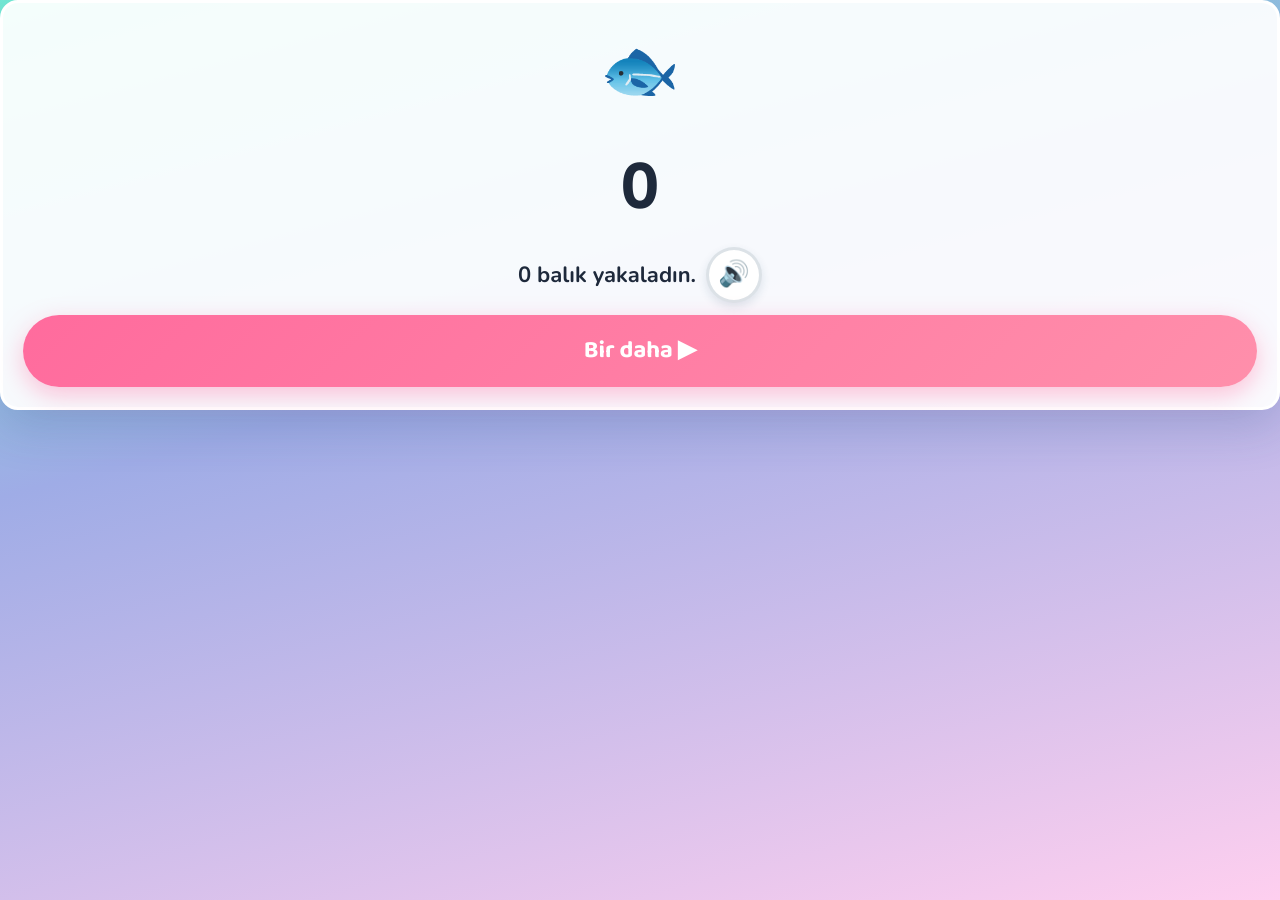
Scenario: DurGit bileşeni › başlar, 45 sn sonra sonuç ekranını gösterir ve yerinde yeniden başlar
Later steps or results of the test are not shown.
What coordinates should you click on to do the following:
click the button "Bir daha ▶"
I would click on:
 (640, 351)
Its box is x1=23 y1=315 x2=1257 y2=387.
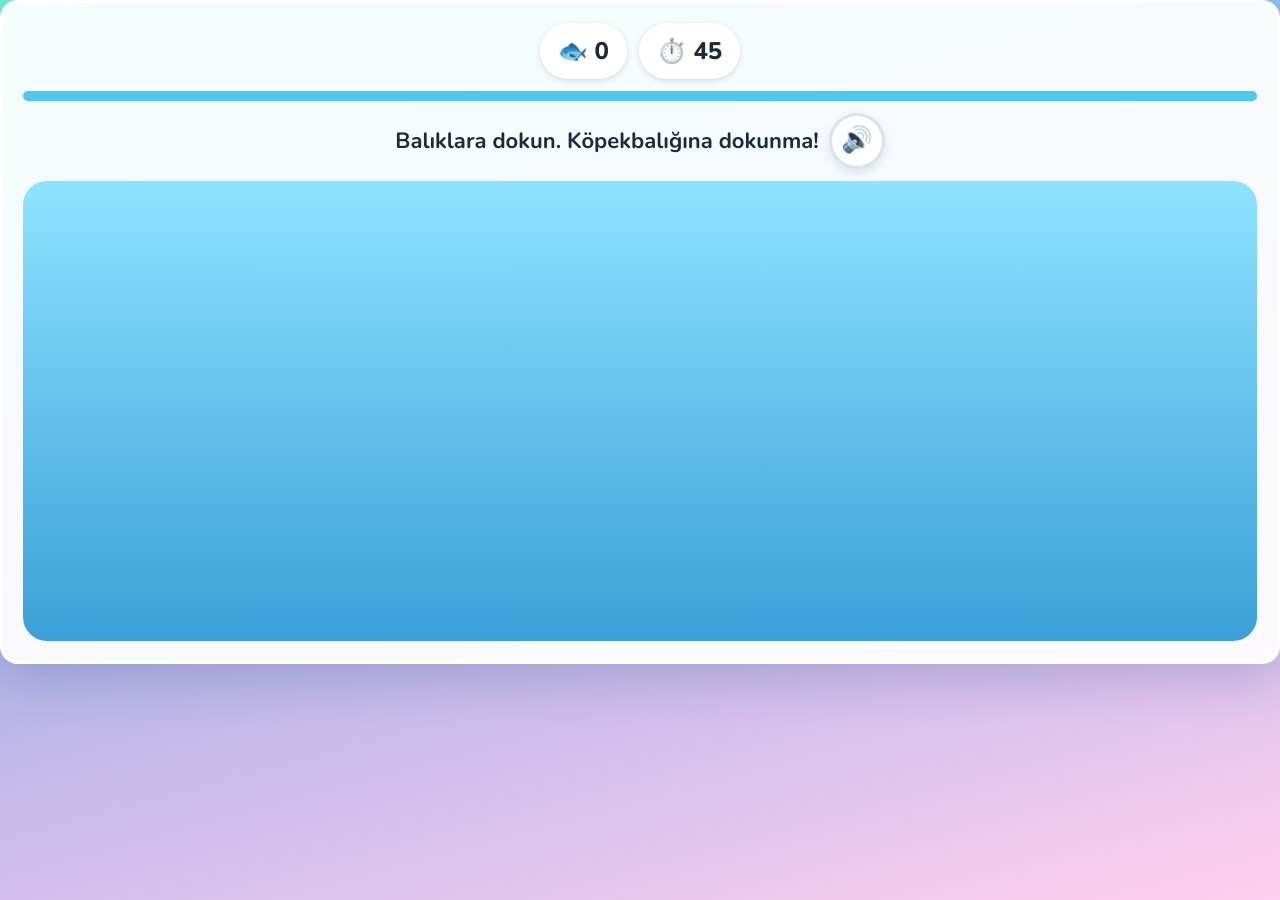
Result: the element named "Göl" is shown at x1=23 y1=181 x2=1257 y2=641
